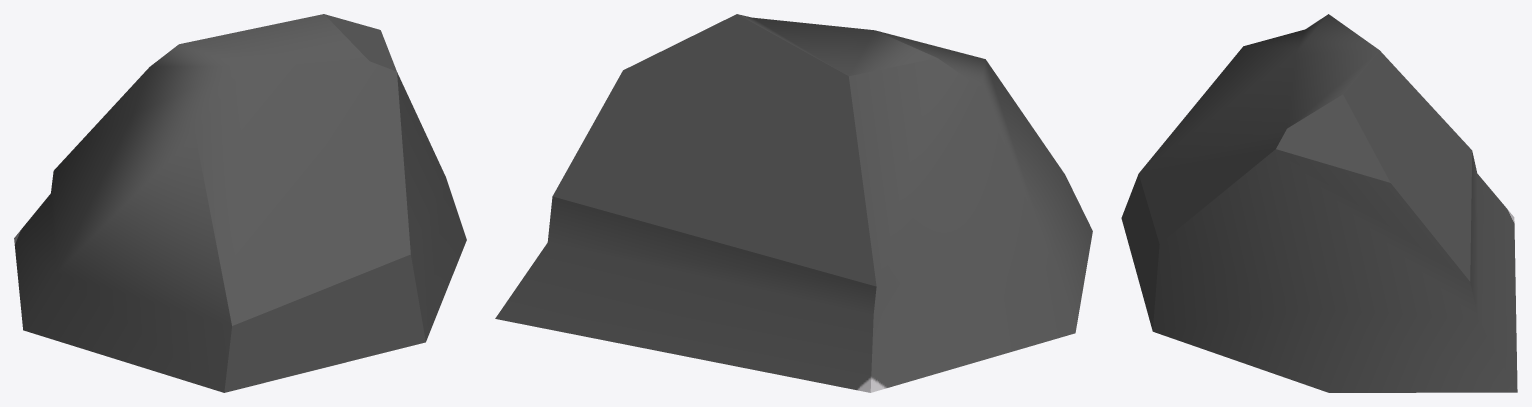
Rendered from Rock.fbx.
3 views of the same model, side by side, from view 1: azimuth 30°, elevation 25°; view 2: azimuth 150°, elevation 25°; view 3: azimuth 270°, elevation 25° (orthographic). The views are drawn at different scales.
Visible parts, largest first — view 1: pCube8; view 2: pCube8; view 3: pCube8.
Part boxes in pixels (x1=…): pCube8: x1=14, y1=14, x2=466, y2=392; pCube8: x1=495, y1=14, x2=1092, y2=392; pCube8: x1=1121, y1=14, x2=1517, y2=392.
Bounding box in the file's own units: 67.67 × 36.81 × 55.7.
